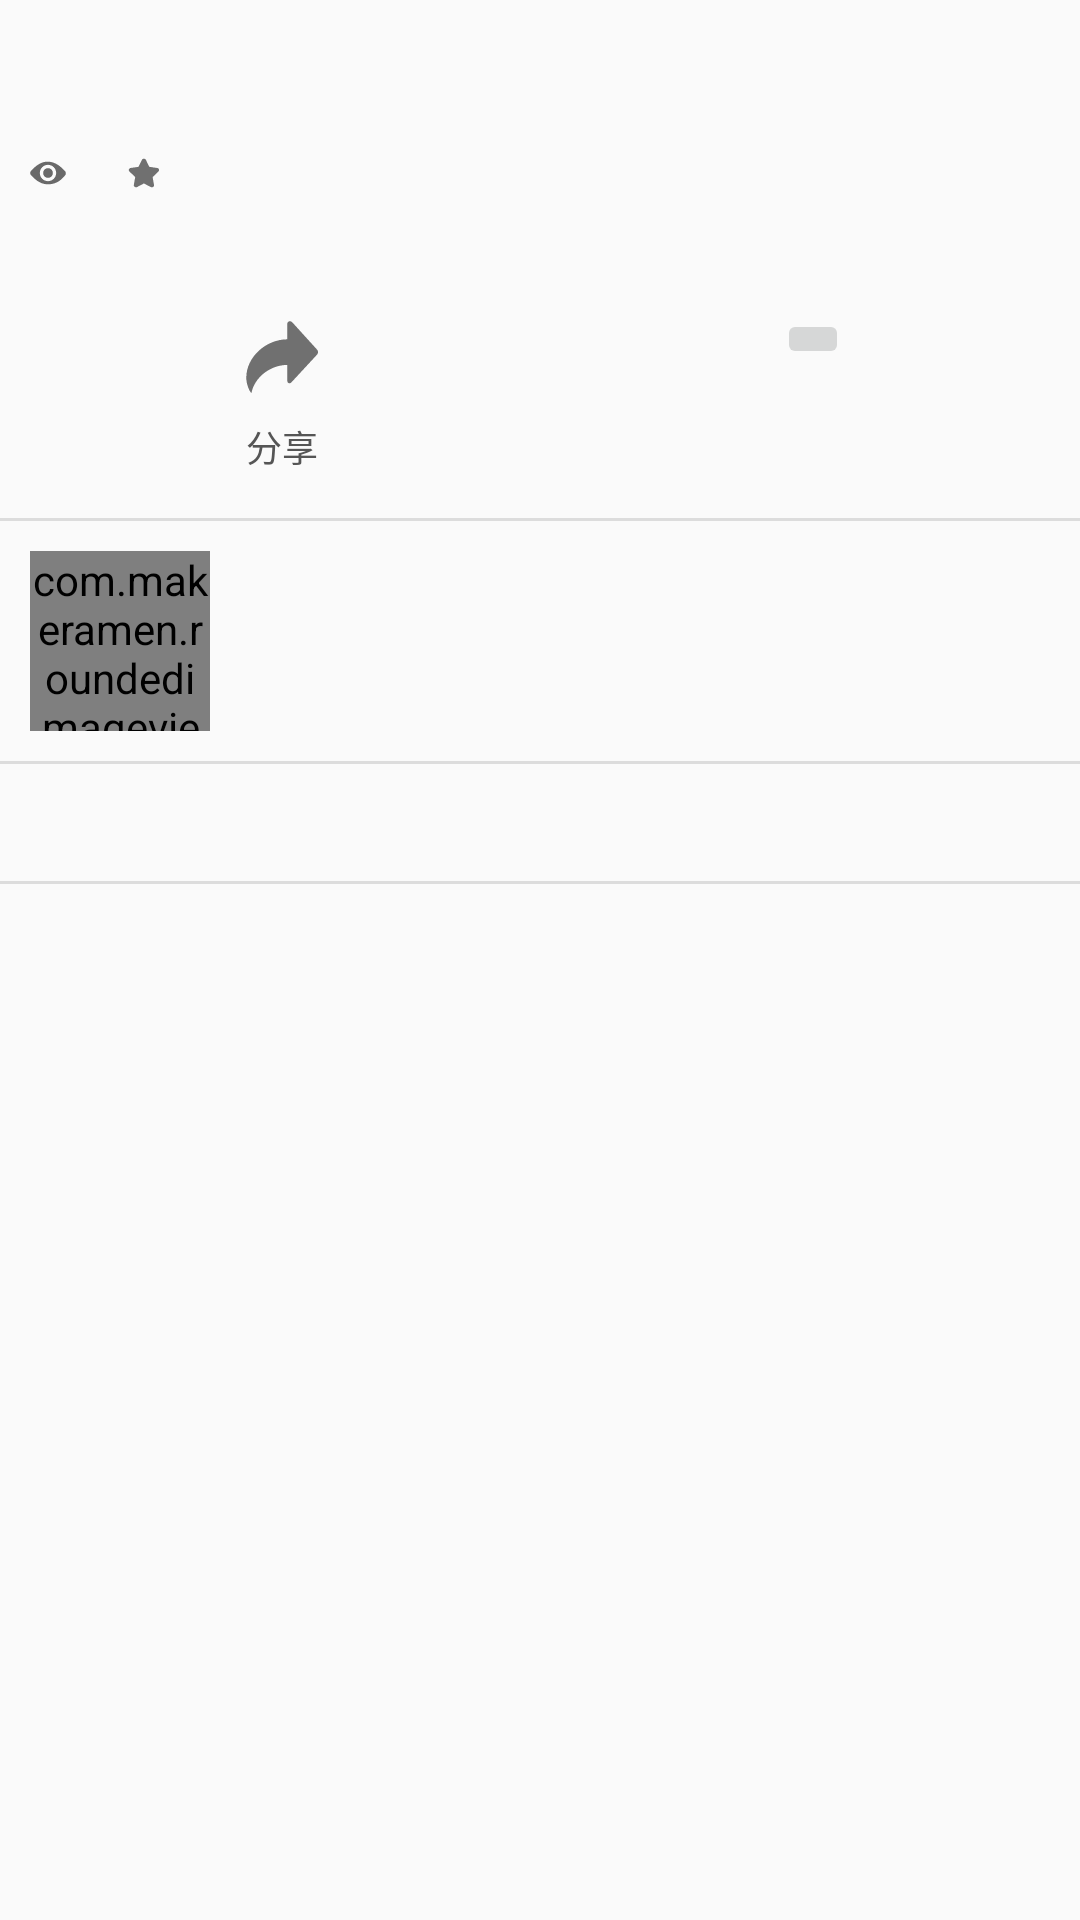

Screen size 1080×1920. Icon name, then its box in pixels as (x1, y1, x2, y2):
browse: (30, 161, 66, 185)
collect no: (129, 158, 159, 188)
